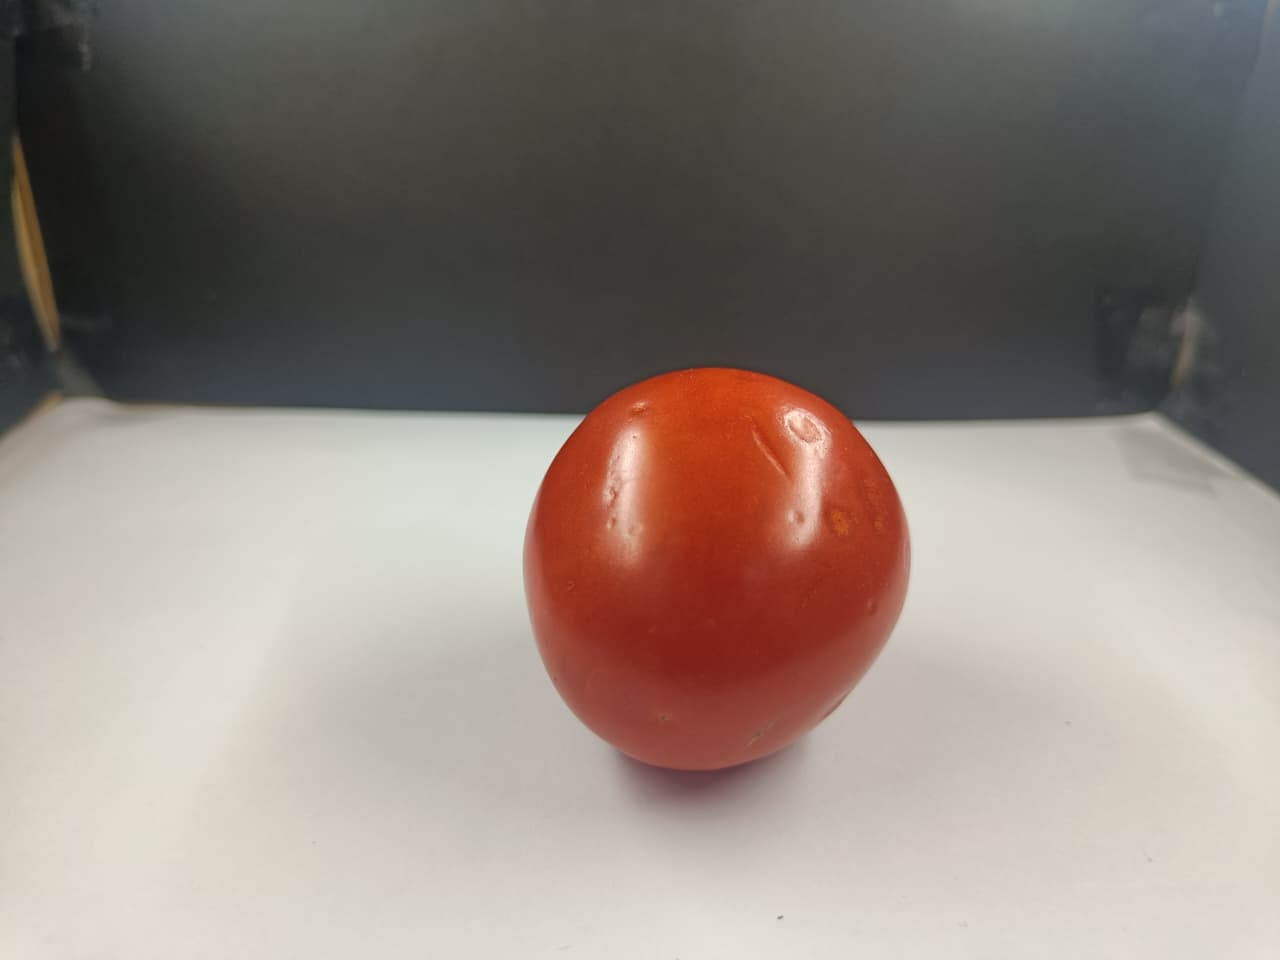ripe: (521, 358, 909, 791)
